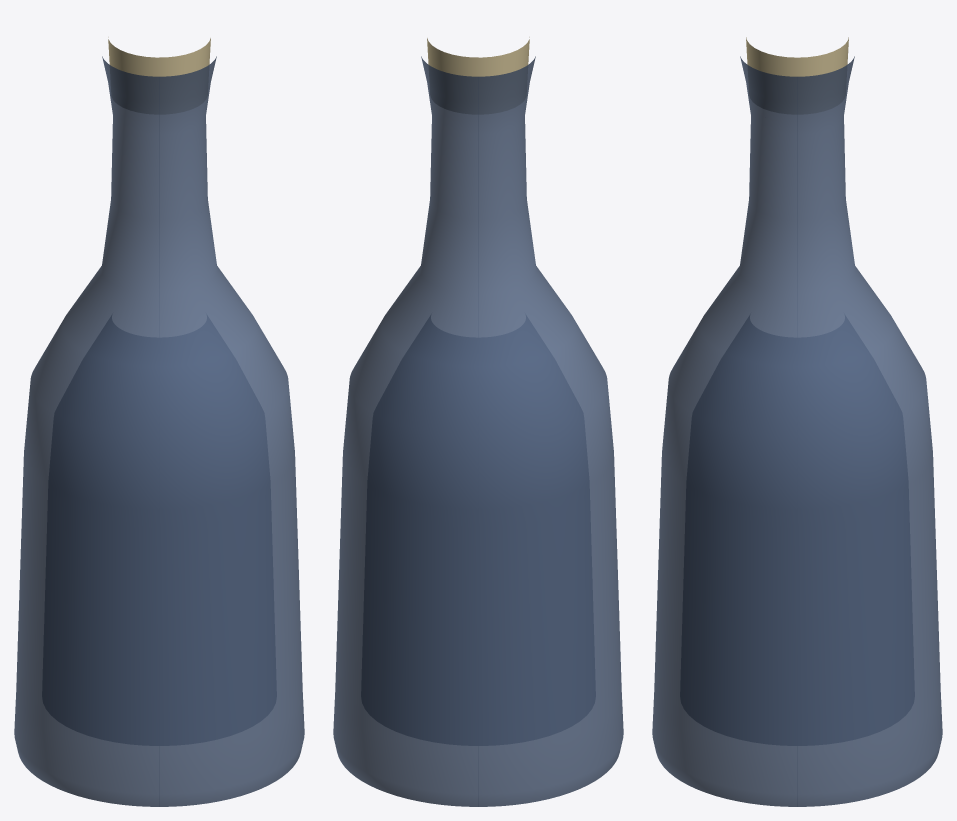
The model's file is johnnie-walker-blue.glb.
3 renders of one model, left to right at view 1: azimuth 30°, elevation 25°; view 2: azimuth 150°, elevation 25°; view 3: azimuth 270°, elevation 25°, orthographic.
Visible parts, largest first — view 1: body, cap; view 2: body, cap; view 3: body, cap.
Part boxes in pixels (x1,y1,x2,y2): body: [14, 56, 304, 806]; cap: [108, 37, 210, 76]; body: [333, 56, 623, 806]; cap: [427, 37, 529, 76]; body: [652, 56, 942, 806]; cap: [746, 37, 848, 76].
Bounding box in the file's own units: 0.45 × 1.22 × 0.45.
